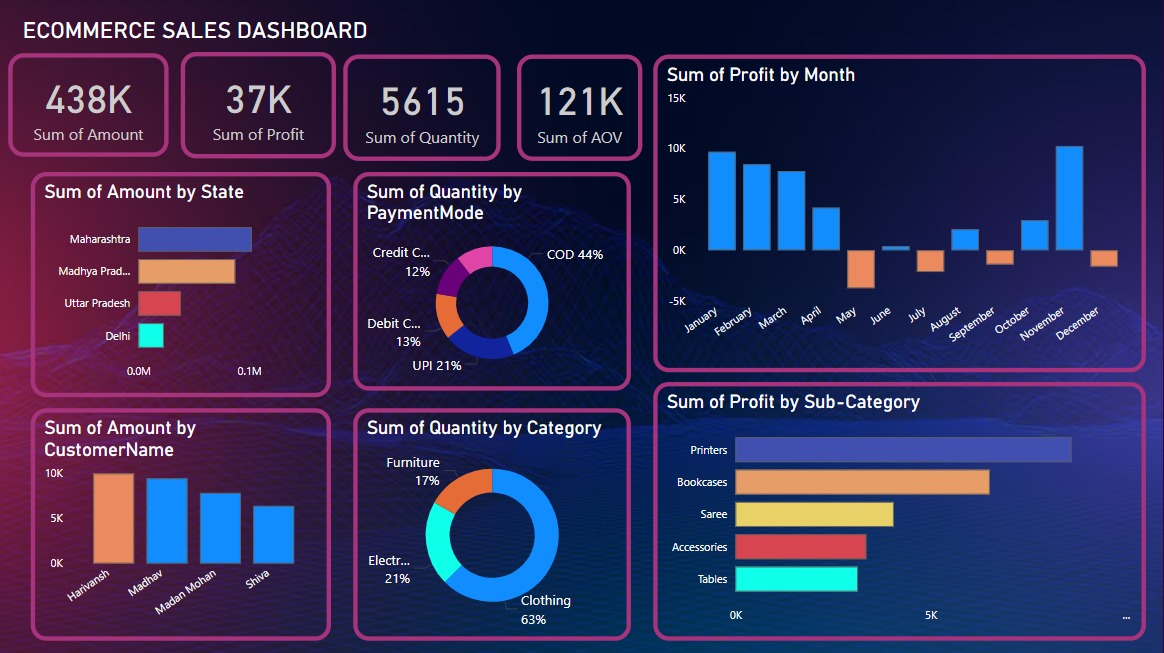

What the dashboard file says about the page in this screenshot:
{"tool":"powerbi","page":{"name":"Page 1","canvas":[1280,720],"ordinal":0},"visuals":[{"type":"textbox","title":"ECOMMERCE SALES DASHBOARD","box":[23.3,22,426.8,61.7],"z":0},{"type":"columnChart","fields":{"Category":["Orders.Order Date.Variation.Date Hierarchy.Month"],"Y":["Sum(Details.Profit)"]},"box":[720.4,63.1,540.7,348.5],"z":1000},{"type":"barChart","fields":{"Category":["Details.Sub-Category"],"Y":["Sum(Details.Profit)"]},"box":[720.4,422.6,540.7,284],"z":2000},{"type":"donutChart","fields":{"Category":["Details.Category"],"Y":["Sum(Details.Quantity)"]},"box":[391.1,451.5,304.6,255.2],"z":3000},{"type":"donutChart","fields":{"Y":["Sum(Details.Quantity)"],"Category":["Details.PaymentMode"]},"box":[391.1,192.1,304.6,240.1],"z":4000},{"type":"card","fields":{"Values":["Sum(Details.Amount)"]},"box":[12.3,61.7,175.6,113.9],"z":5000},{"type":"card","fields":{"Values":["Sum(Details.Quantity)"]},"box":[380.1,63.1,172.9,116.6],"z":6000},{"type":"card","fields":{"Values":["Sum(Details.Profit)"]},"box":[201.7,60.4,170.2,116.6],"z":7000},{"type":"card","fields":{"Values":["Sum(Details.AOV)"]},"box":[570.8,63.1,137.2,116.6],"z":8000},{"type":"barChart","fields":{"Category":["Orders.State"],"Y":["Sum(Details.Amount)"]},"box":[37,192.1,329.3,247],"z":9000},{"type":"columnChart","fields":{"Category":["Orders.CustomerName"],"Y":["Sum(Details.Amount)"]},"box":[37,451.5,329.3,255.2],"z":10000}]}

Visuals, with their boxes in screenshot pixels (x1, y1, x2, y2), scaled from the page's 1280x720 canvas onto the 1164x653 screenshot:
"ECOMMERCE SALES DASHBOARD" textbox: BBox(21, 20, 409, 76)
columnChart - Orders.Order Date.Variation.Date Hierarchy.Month x Sum(Details.Profit): BBox(655, 57, 1147, 373)
barChart - Details.Sub-Category x Sum(Details.Profit): BBox(655, 383, 1147, 641)
donutChart - Details.Category x Sum(Details.Quantity): BBox(356, 409, 633, 641)
donutChart - Sum(Details.Quantity) x Details.PaymentMode: BBox(356, 174, 633, 392)
card - Sum(Details.Amount): BBox(11, 56, 171, 159)
card - Sum(Details.Quantity): BBox(346, 57, 503, 163)
card - Sum(Details.Profit): BBox(183, 55, 338, 161)
card - Sum(Details.AOV): BBox(519, 57, 644, 163)
barChart - Orders.State x Sum(Details.Amount): BBox(34, 174, 333, 398)
columnChart - Orders.CustomerName x Sum(Details.Amount): BBox(34, 409, 333, 641)
